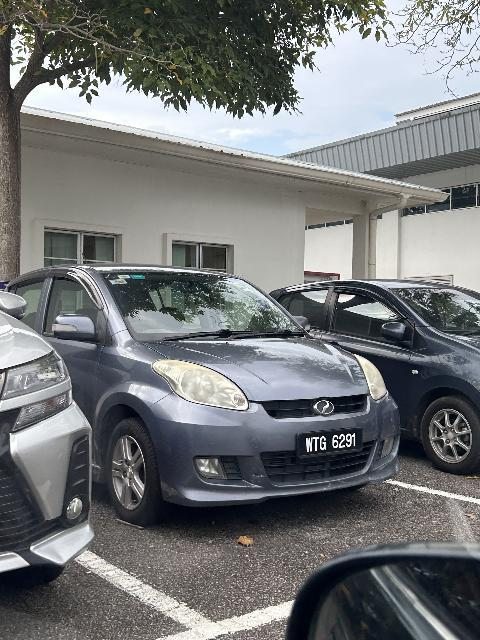License_Plate: (295, 429, 365, 462)
WTG6291: (295, 429, 365, 462)
car: (1, 262, 399, 528), (270, 276, 480, 474)
